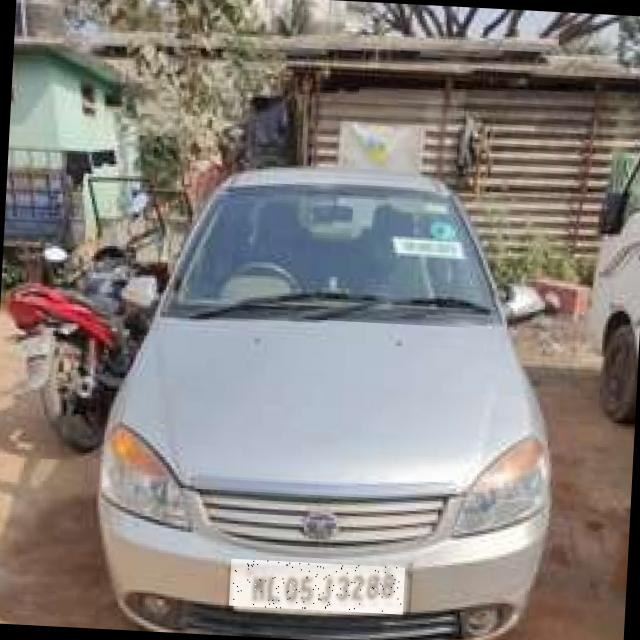Plate: (230, 560, 406, 616)
